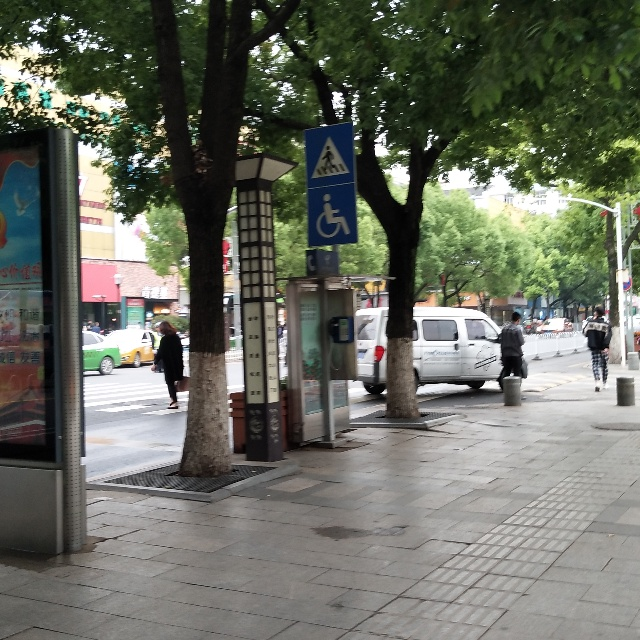crosswalk: (305, 130, 357, 183)
